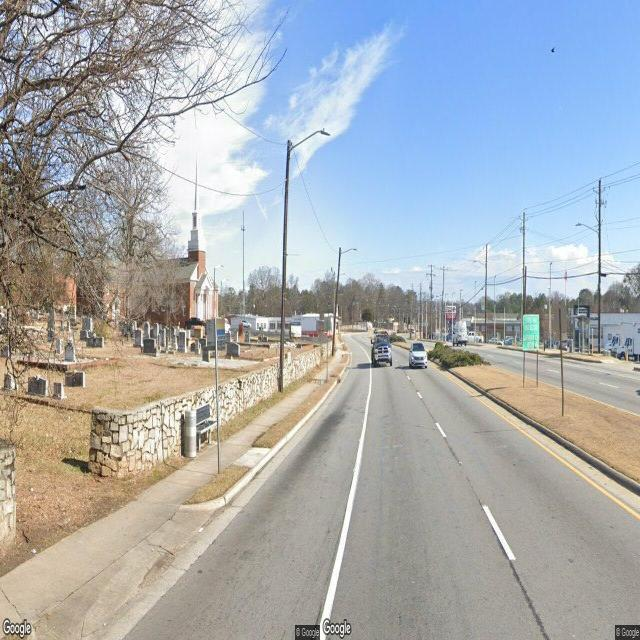seating: (195, 402, 218, 452)
trash_can: (181, 400, 197, 458)
